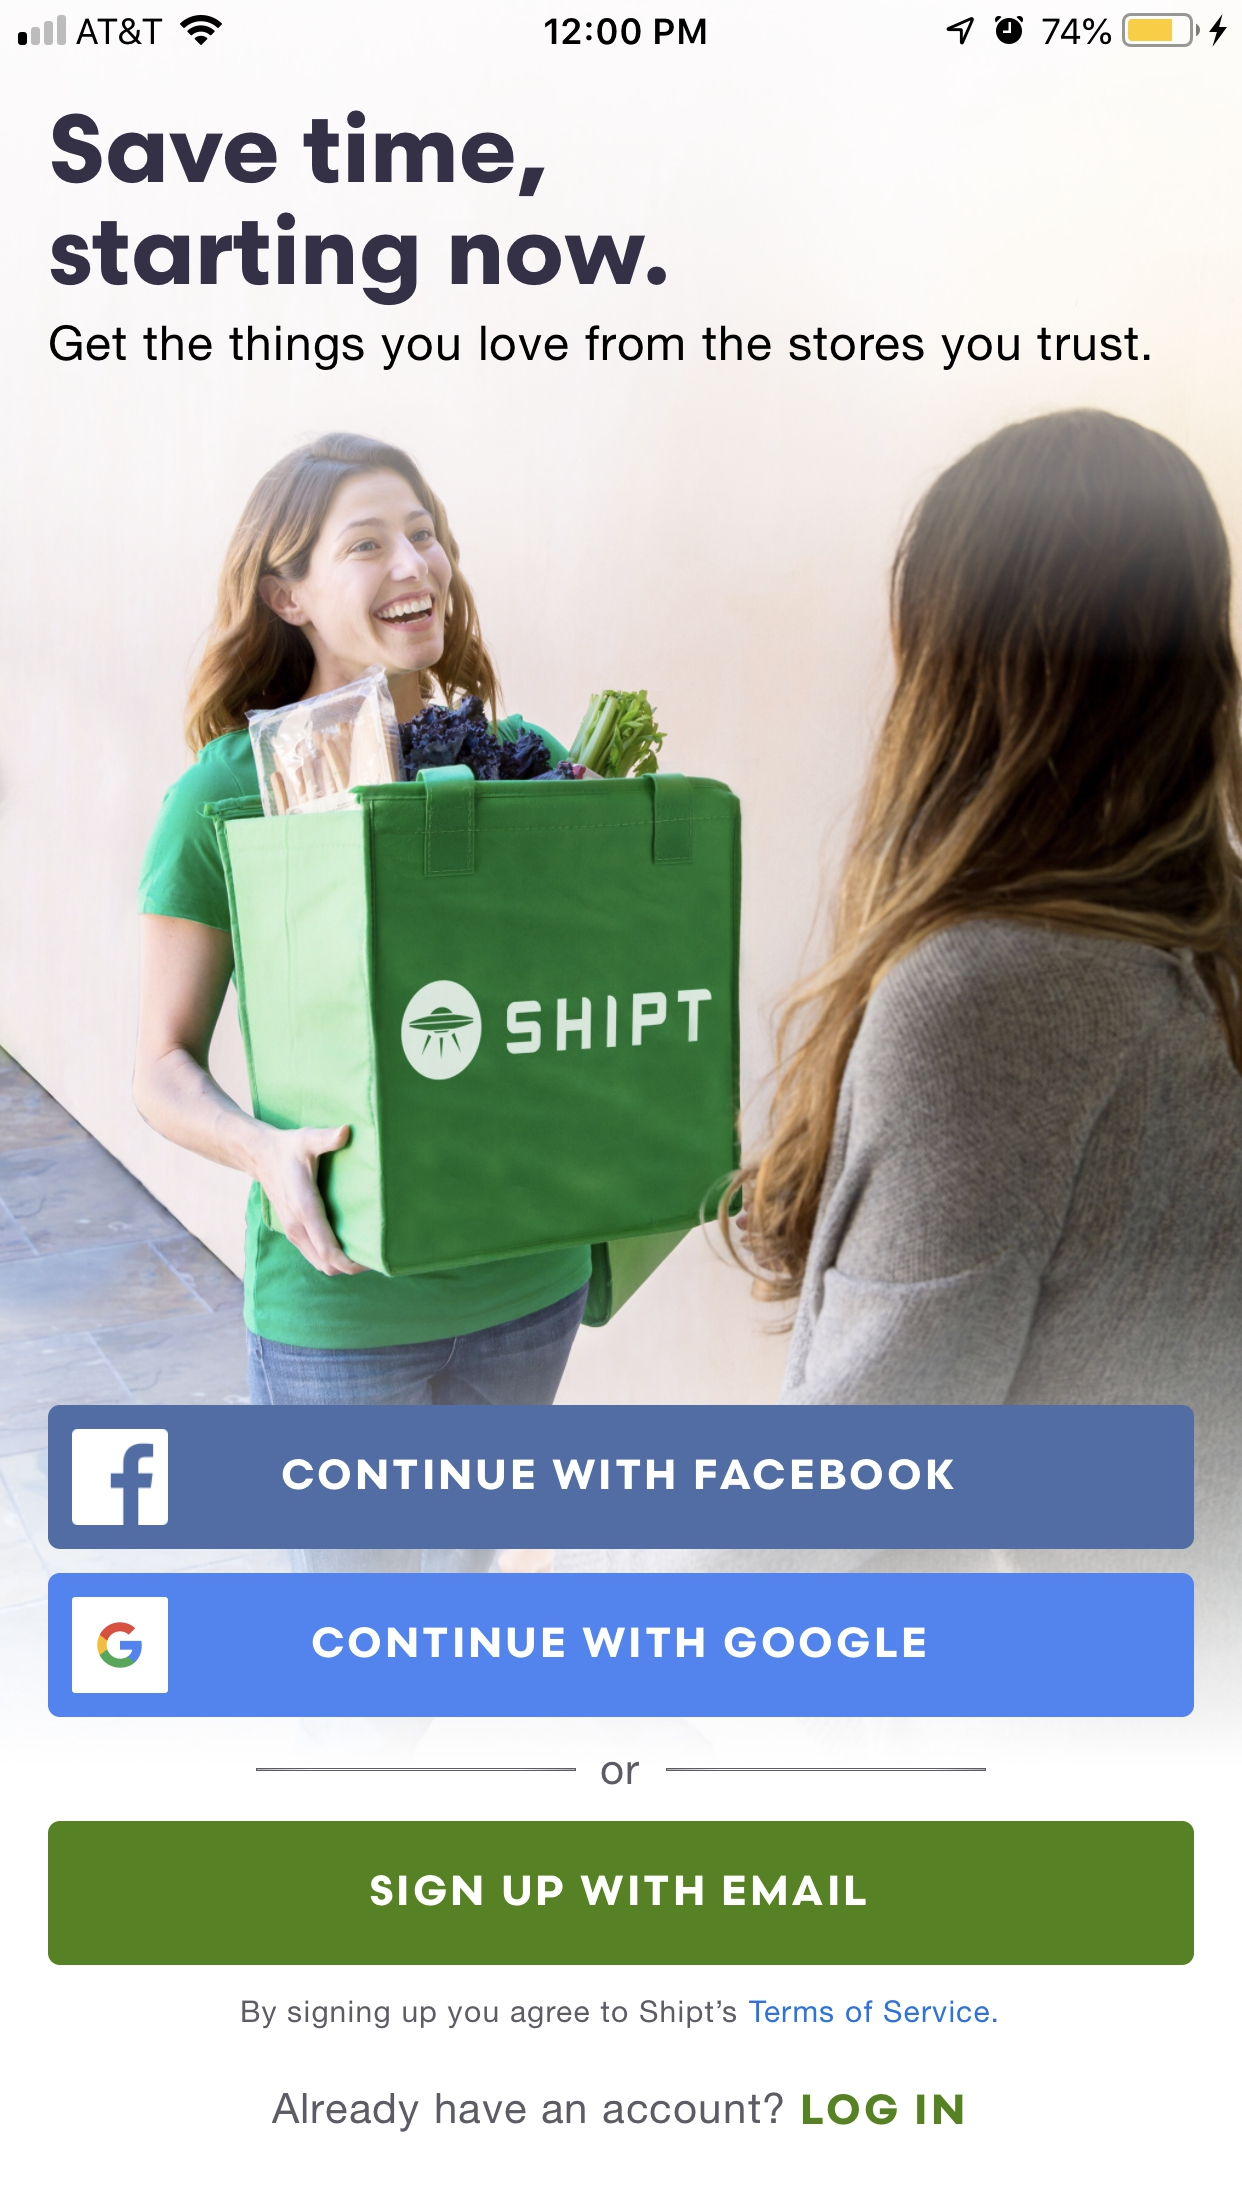BackgroundImage: (2, 2, 1242, 2206)
Text: (50, 111, 666, 306), (50, 325, 1151, 372), (243, 1999, 998, 2031), (271, 2091, 784, 2134), (804, 2093, 964, 2126), (601, 1761, 640, 1786)
TextButton: (49, 1820, 1195, 1965), (49, 1573, 1195, 1718), (49, 1404, 1195, 1550)
UpperTaskBar: (2, 2, 1242, 49)
